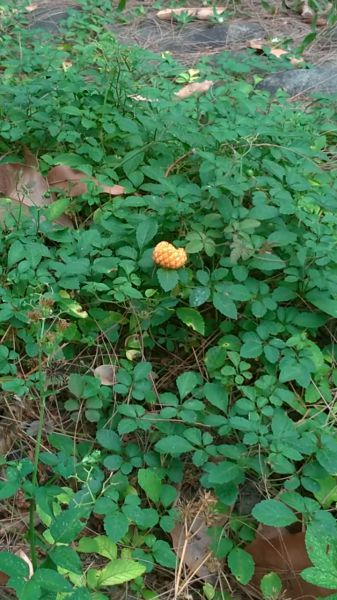eggs: (151, 239, 191, 271)
